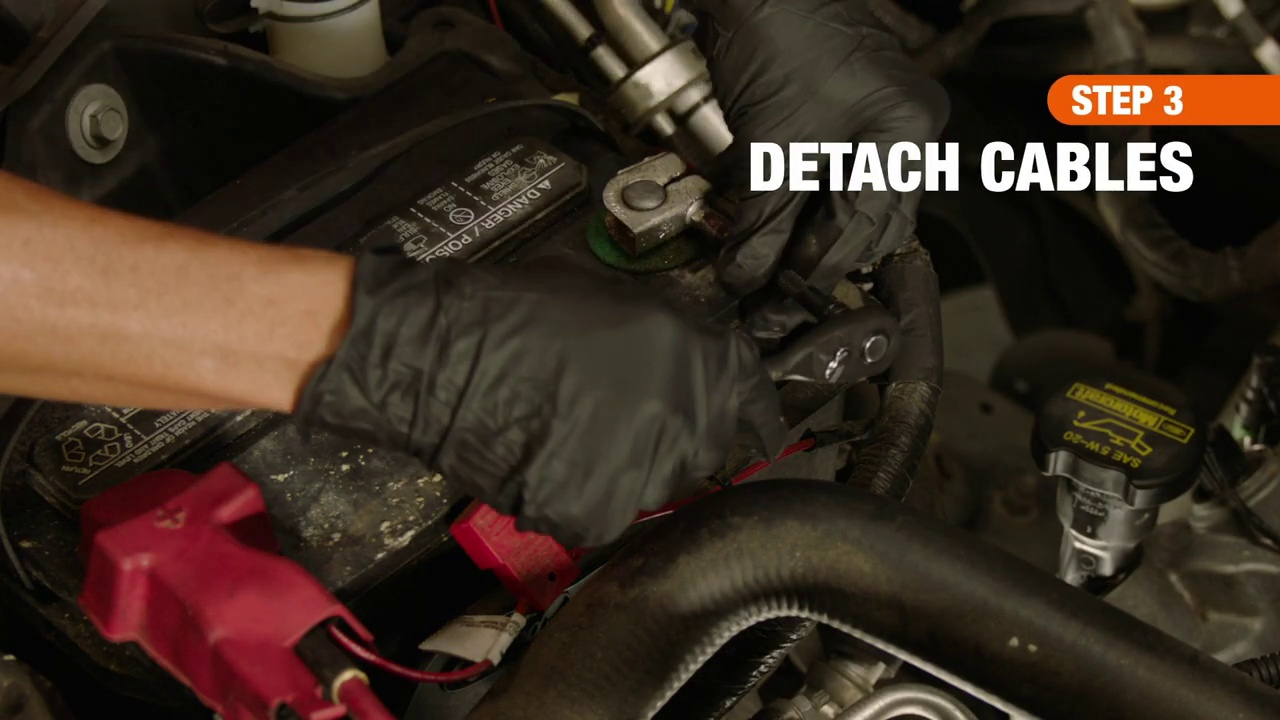battery: (12, 41, 858, 712)
neg_connected: (553, 115, 755, 286)
neg_touched: (595, 113, 868, 426)
pos_connected: (53, 434, 344, 687)
